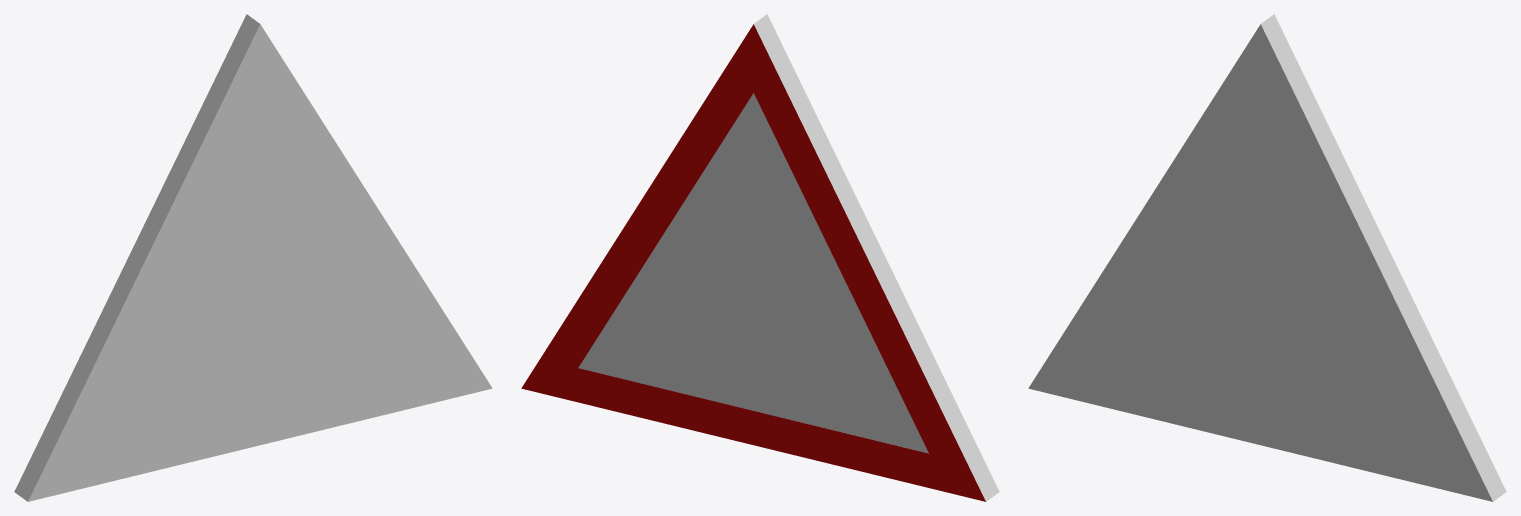
Rendered from ODVZEM.fbx.
3 renders of one model, left to right at view 1: azimuth 30°, elevation 25°; view 2: azimuth 150°, elevation 25°; view 3: azimuth 330°, elevation 25°, orthographic.
Visible parts, largest first — view 1: Circle; view 2: Circle; view 3: Circle.
Boxes of the visible parts, x1,y1,x2,y2 form: Circle: (14,14,492,501); Circle: (521,14,999,501); Circle: (1028,14,1506,501).
Bounding box in the file's own units: 89.98 × 77.93 × 4.58.
